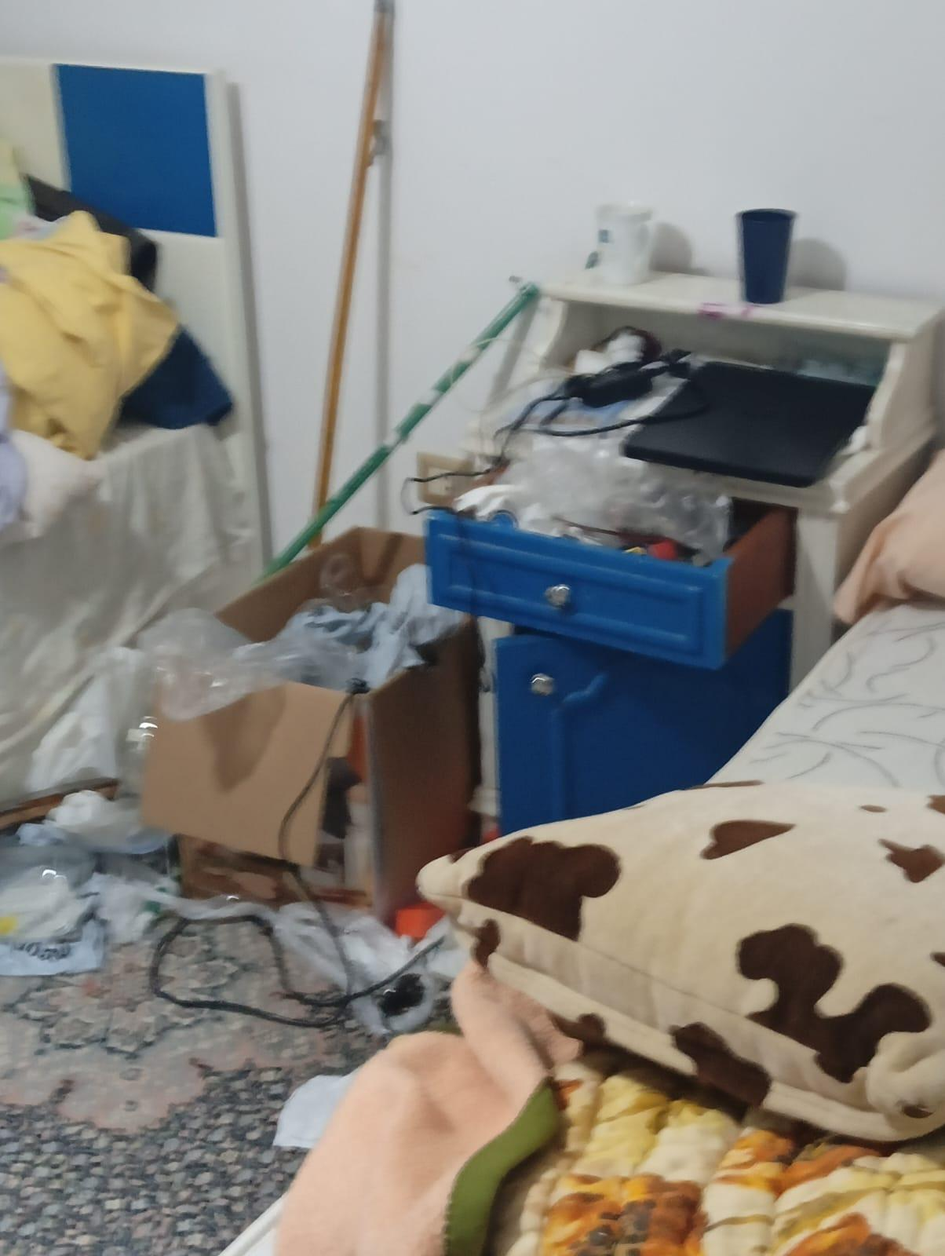cup: (738, 209, 795, 303), (597, 203, 652, 285)
